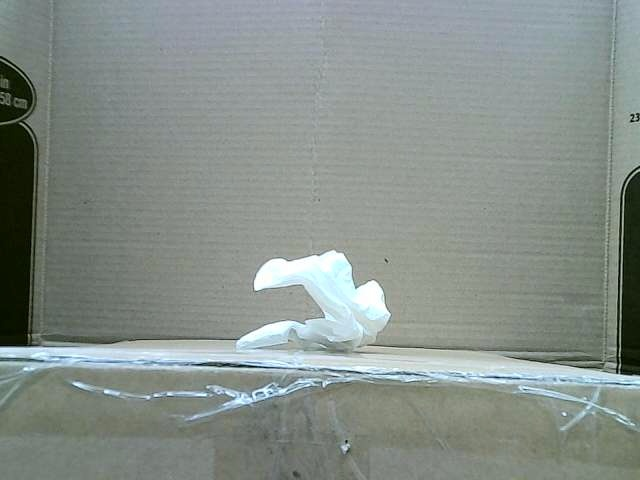Tissue: (236, 249, 392, 347)
